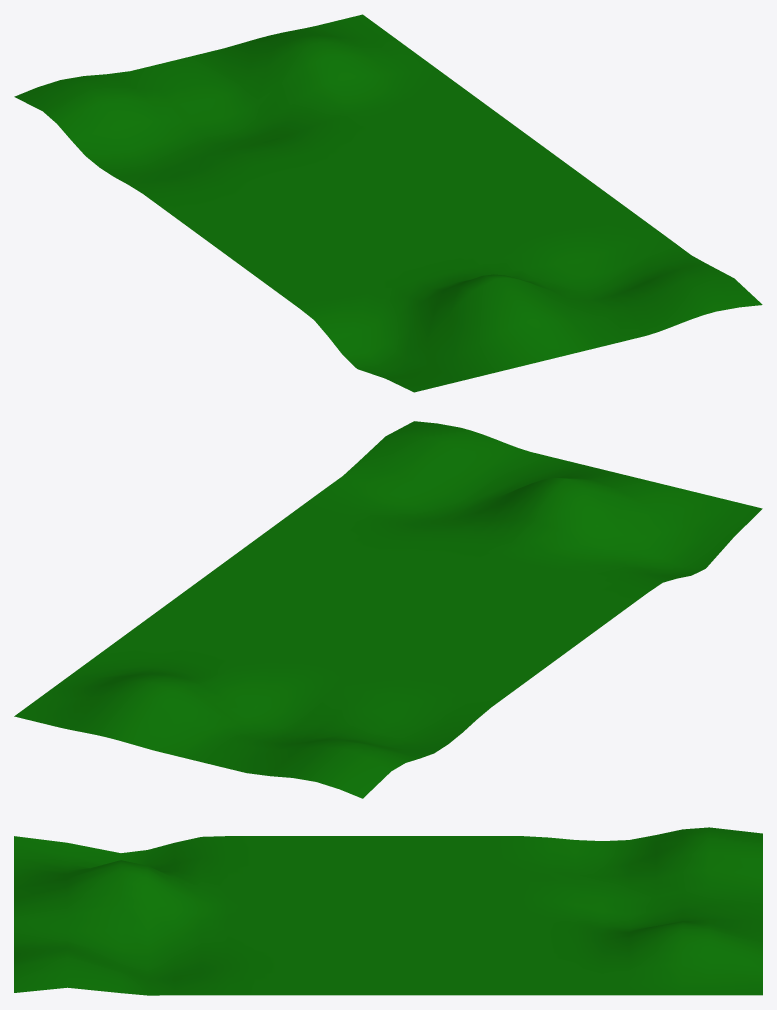
Rendered from enviro3_Terrain2.fbx.
3 renders of one model, top to bottom at view 1: azimuth 30°, elevation 25°; view 2: azimuth 150°, elevation 25°; view 3: azimuth 270°, elevation 25°, orthographic. The views are drawn at different scales.
Parts seen in each view (by area): view 1: terrain3; view 2: terrain3; view 3: terrain3.
Boxes of the visible parts, box(x1,y1,x2,y2) form: terrain3: box(14, 14, 762, 392); terrain3: box(14, 421, 762, 798); terrain3: box(14, 827, 762, 995).
Bounding box in the file's own units: 16.5 × 32.8 × 2.7.
